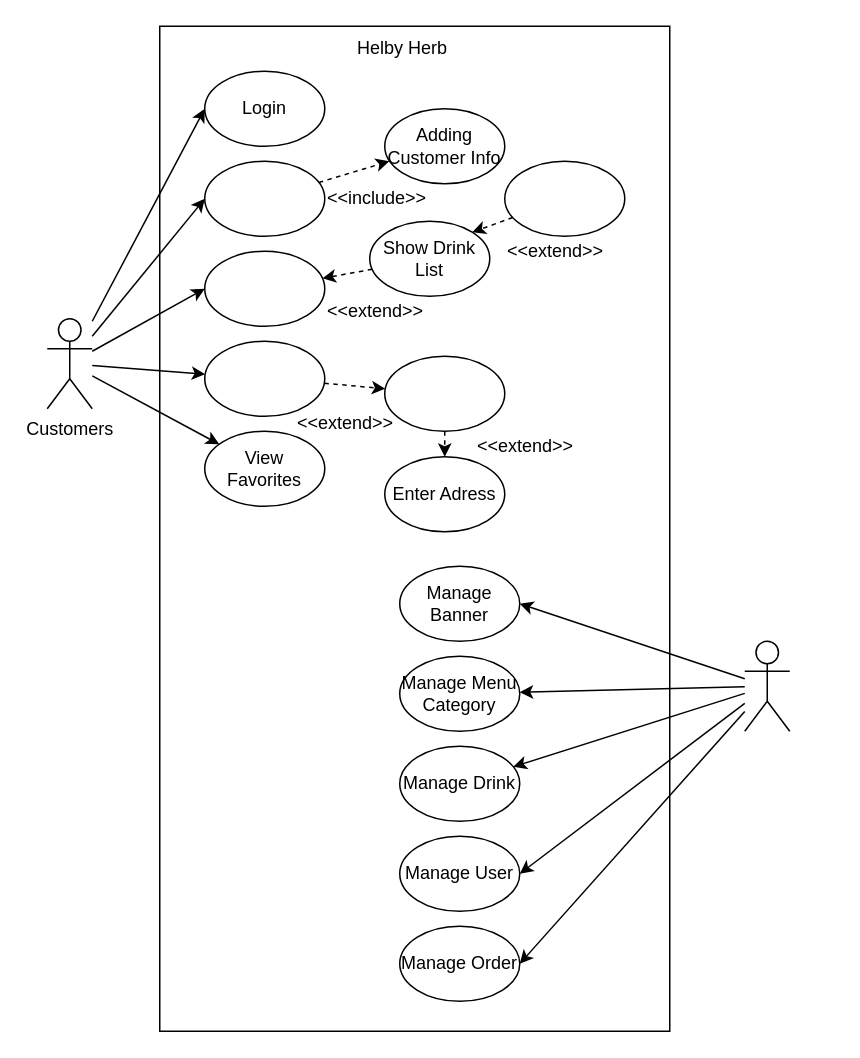
The diagram is 860 pixels wide and 1058 high, and some of its shapes have lost their labels. The shapes that lost their labels are listed below. From the top down, each one's centre as x and y in pixels, then its label:
At point 264,198: "Register".
At point 564,198: "Details Options Drink".
At point 264,288: "Show Category".
At point 264,378: "View Shopping Cart".
At point 444,393: "Check Out".
At point 766,685: "Admin End-Point".
